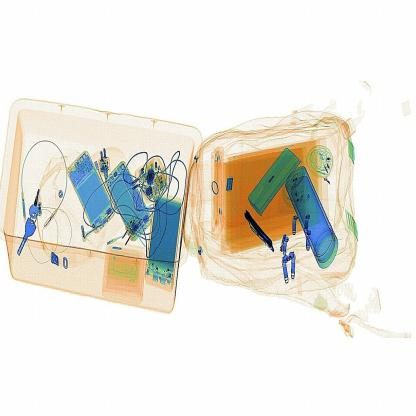knife: (240, 212, 275, 258)
